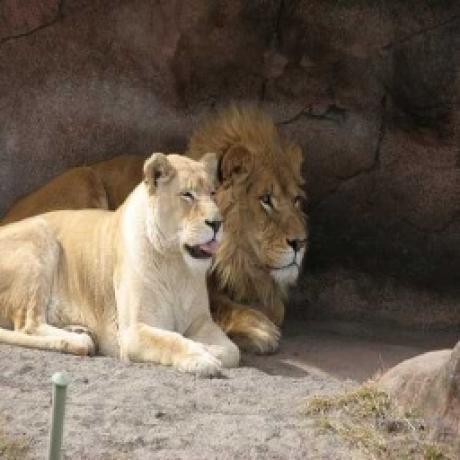Lion: (0, 103, 313, 357), (0, 149, 241, 379)
